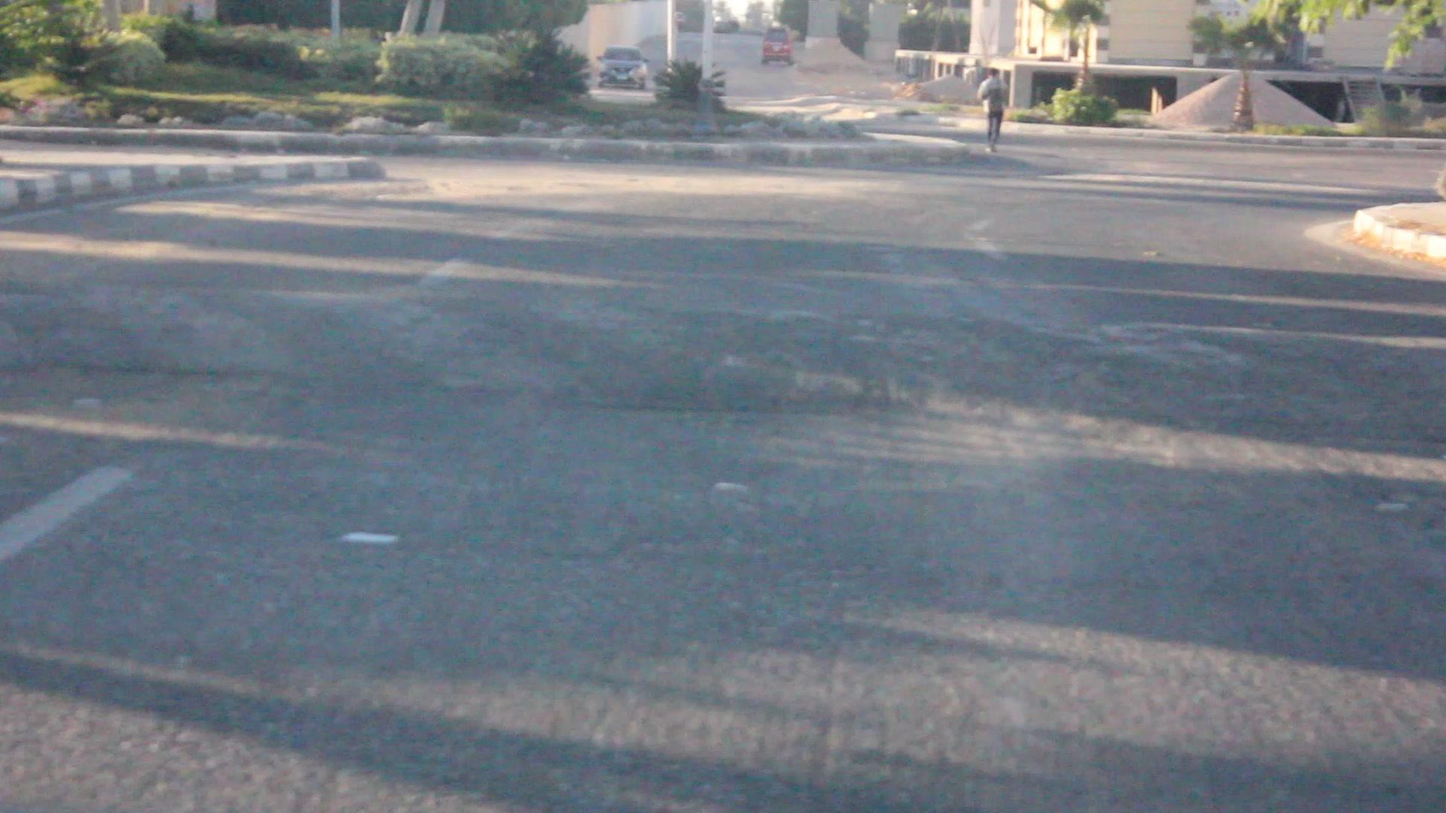Bump: (9, 282, 1446, 435)
